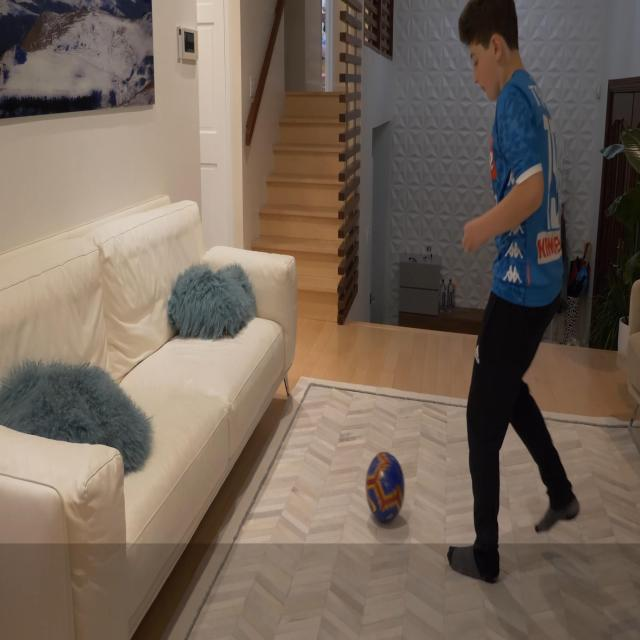Soccer Ball: (365, 450, 406, 524)
